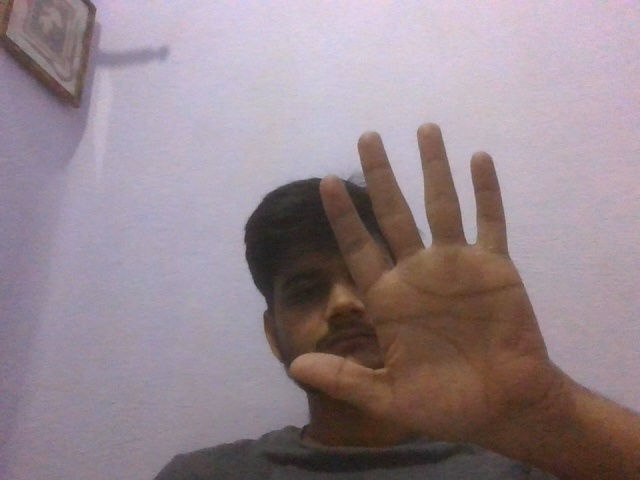hello: (285, 118, 561, 436)
